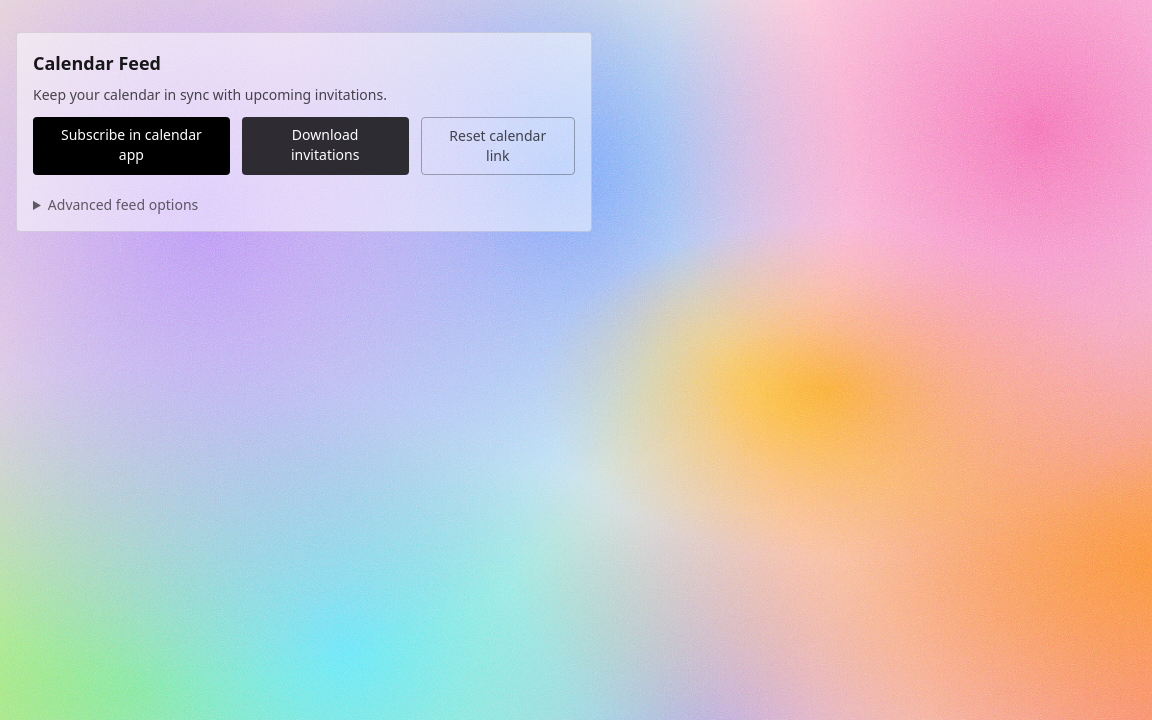
Test: CalendarFeedControls › shows an error when rotate fails
Click the button "Reset calendar link" at x=498, y=146, box [421,117,575,175]
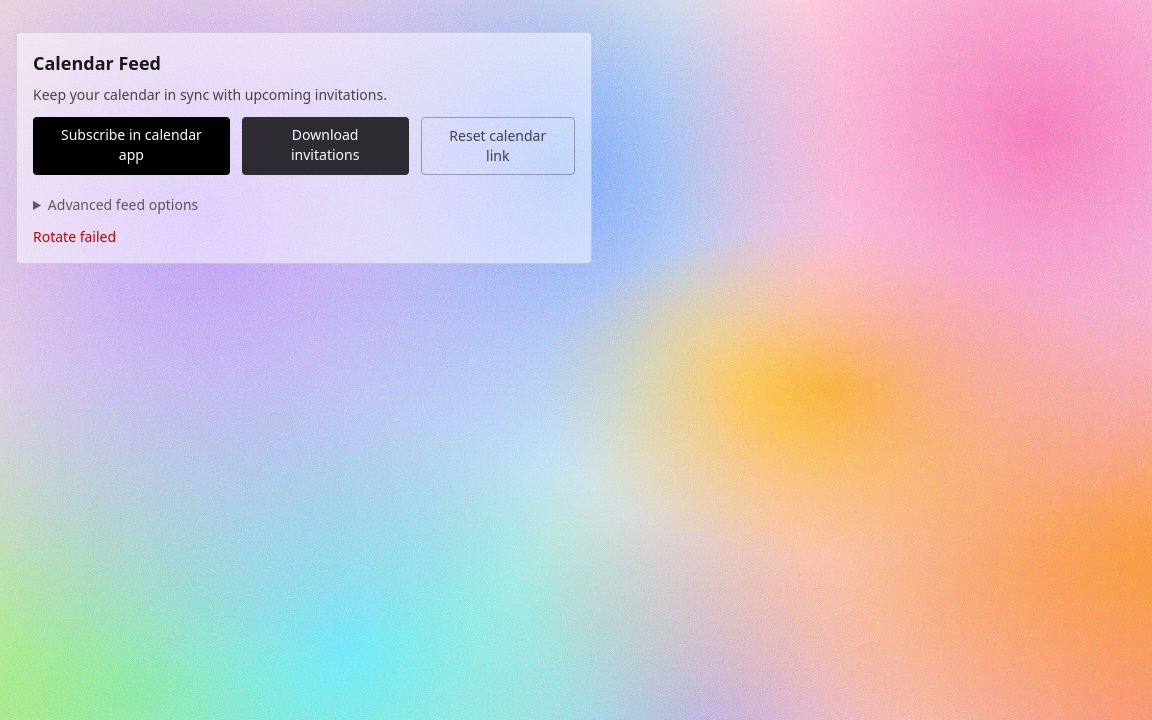
Check: the text "Rotate failed" is shown, box [33,227,116,246]
